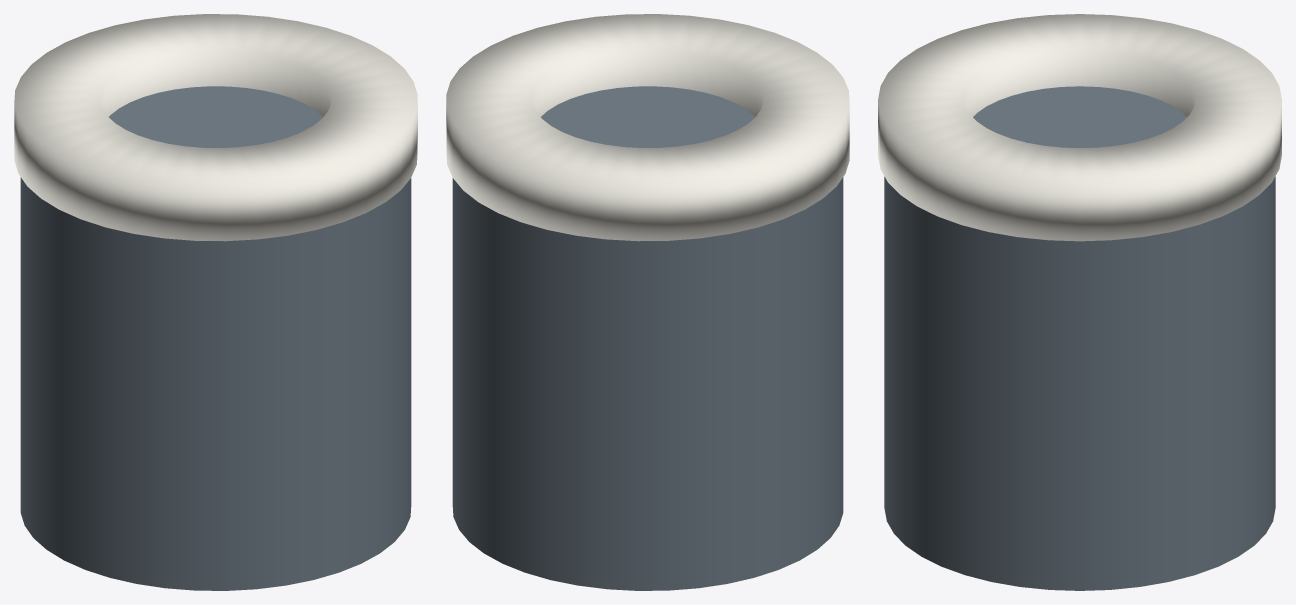
The model's file is iss_canadarm2.base_roll.shoulder_pitch.elbow_pitch.wrist_pitch.wrist_roll.glb.
3 renders of one model, left to right at view 1: azimuth 30°, elevation 25°; view 2: azimuth 150°, elevation 25°; view 3: azimuth 270°, elevation 25°, orthographic.
Visible parts, largest first — view 1: iss_canadarm2.base_roll.shoulder_pitch.elbow_pitch.wrist_pit (×2); view 2: iss_canadarm2.base_roll.shoulder_pitch.elbow_pitch.wrist_pit (×2); view 3: iss_canadarm2.base_roll.shoulder_pitch.elbow_pitch.wrist_pit (×2).
Part boxes in pixels (<box>): iss_canadarm2.base_roll.shoulder_pitch.elbow_pitch.wrist_pit (×2): <box>14,14,417,590</box>; iss_canadarm2.base_roll.shoulder_pitch.elbow_pitch.wrist_pit (×2): <box>446,14,849,590</box>; iss_canadarm2.base_roll.shoulder_pitch.elbow_pitch.wrist_pit (×2): <box>878,14,1281,590</box>.
Size of the model in its own units: 0.51 by 0.57 by 0.51.
